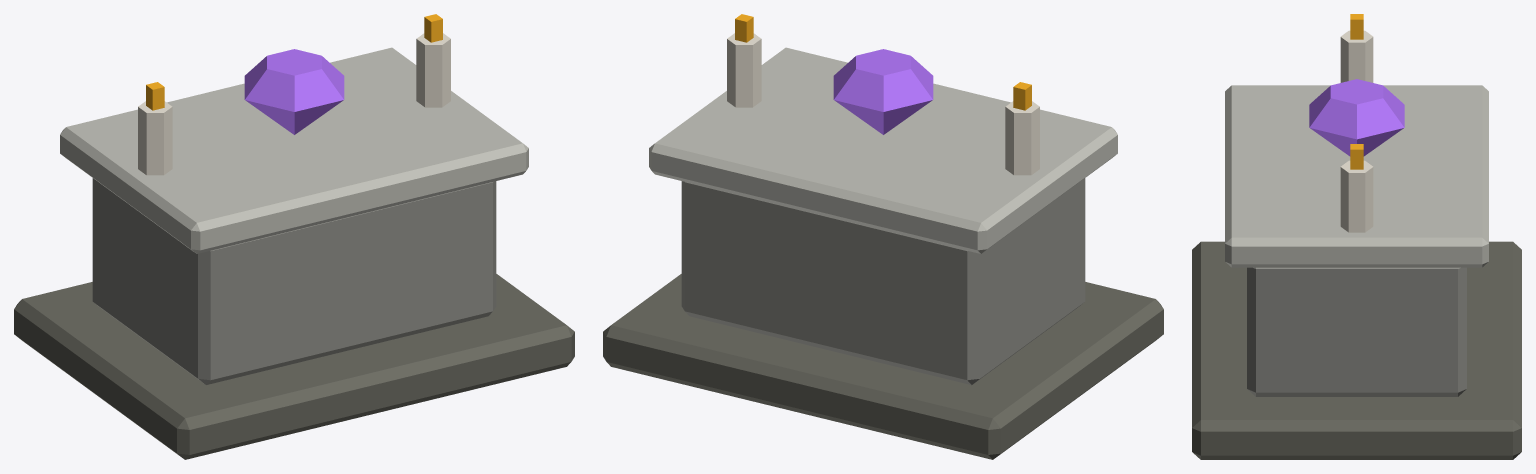
Rendered from Altar.fbx.
The picture shows the model from 3 angles, left to right: view 1: azimuth 30°, elevation 25°; view 2: azimuth 150°, elevation 25°; view 3: azimuth 270°, elevation 25°; orthographic projection. The views are drawn at different scales.
Parts seen in each view (by area): view 1: Altar; view 2: Altar; view 3: Altar.
Boxes of the visible parts, left/top/right/bottom form: Altar: left=14, top=14, right=574, bottom=459; Altar: left=603, top=14, right=1163, bottom=459; Altar: left=1192, top=14, right=1521, bottom=459.
Size of the model in its own units: 4 by 2.9 by 3.
1 material, 1 textured.
